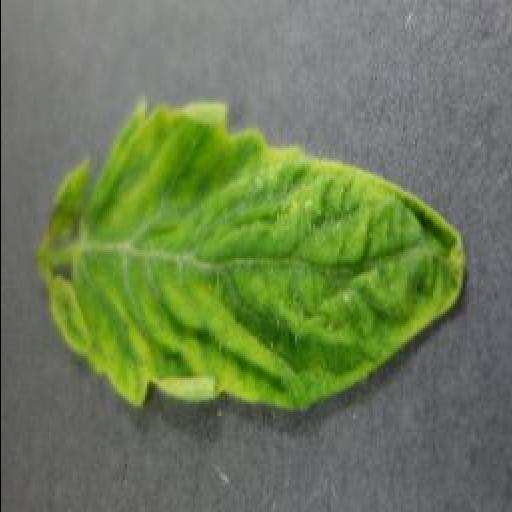disease_tomato: (36, 99, 466, 413)
